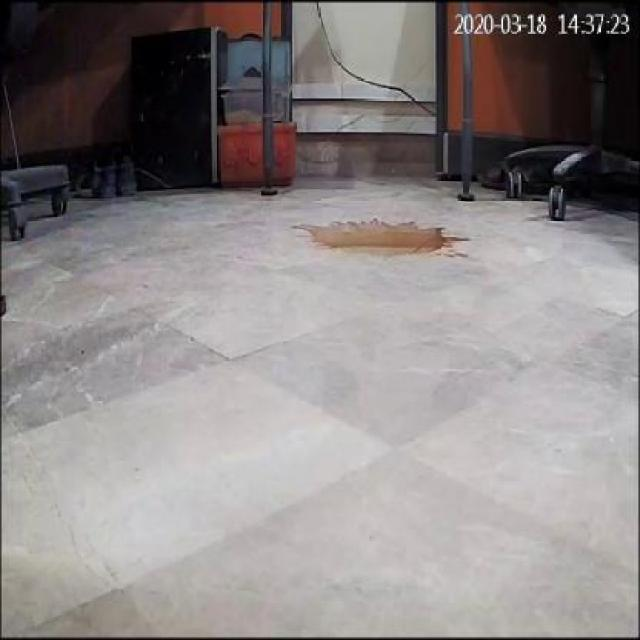spill: (296, 216, 464, 259)
